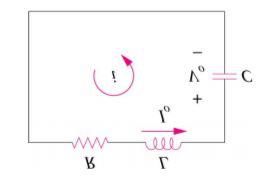inductor: (129, 132, 191, 153)
